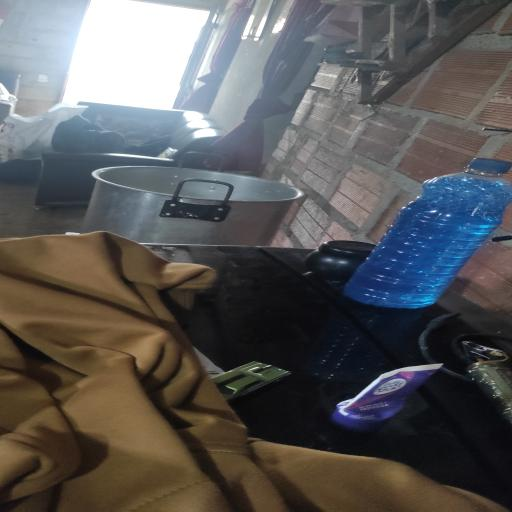Carrito: (213, 361, 290, 401)
